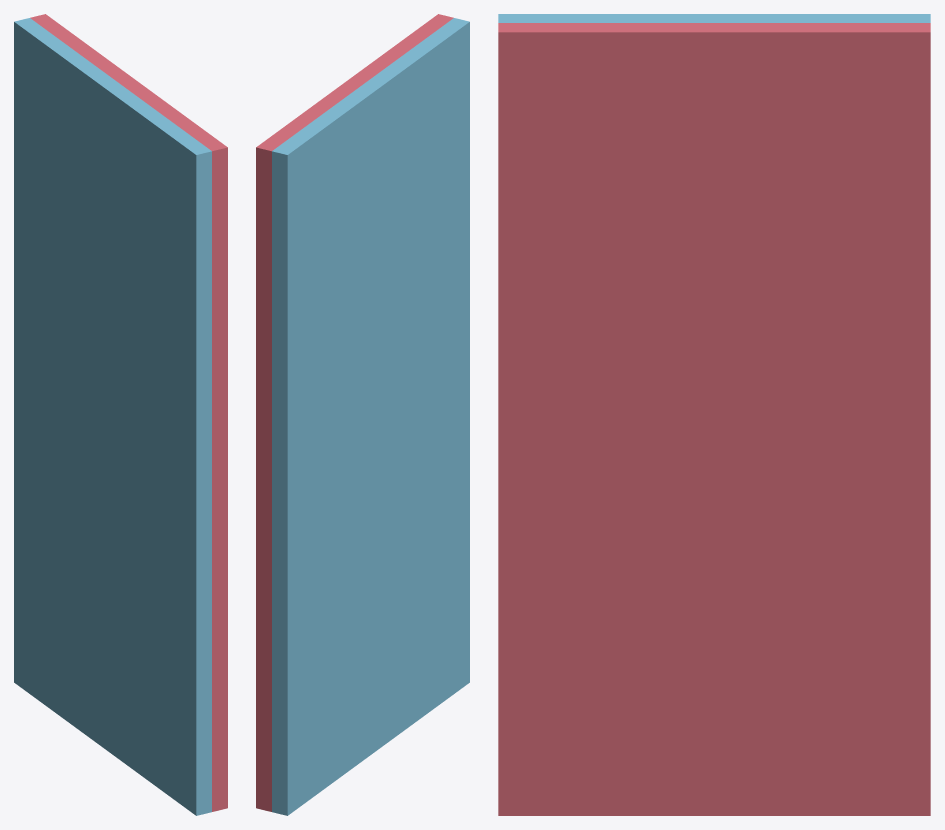
Rendered from twosideWall.fbx.
3 views of the same model, side by side, from view 1: azimuth 30°, elevation 25°; view 2: azimuth 150°, elevation 25°; view 3: azimuth 270°, elevation 25° (orthographic). The views are drawn at different scales.
Parts seen in each view (by area): view 1: Cube; view 2: Cube; view 3: Cube.
Part boxes in pixels (x1,y1,x2,y2): Cube: (14,14,227,815); Cube: (256,14,469,815); Cube: (498,14,930,815).
Size of the model in its own units: 40 by 800 by 400.
